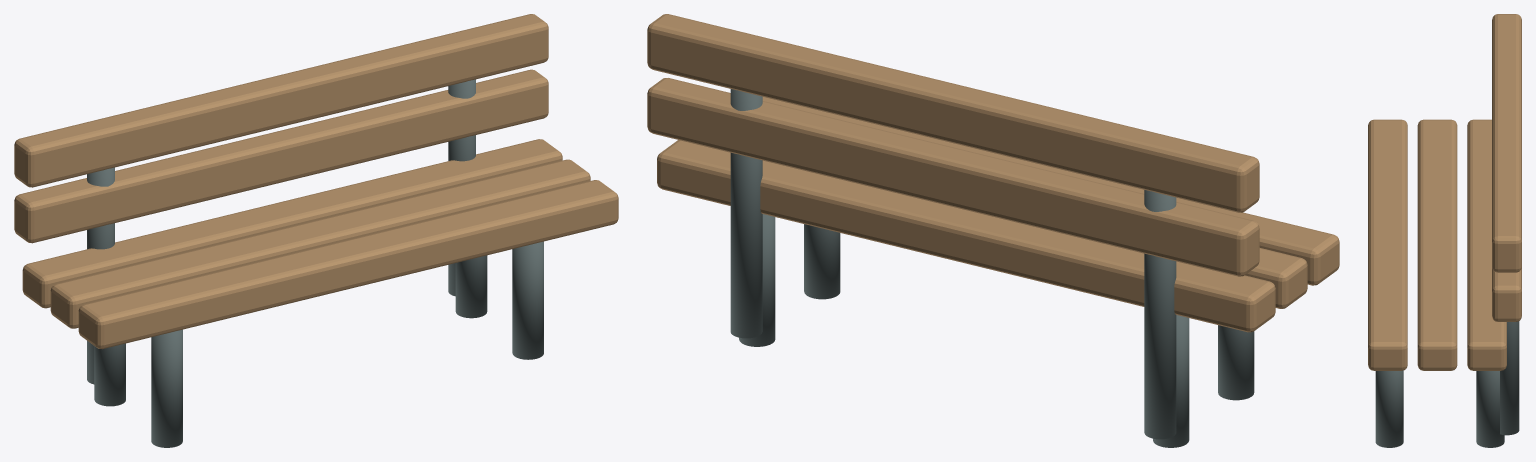
The model's file is bench.glb.
The picture shows the model from 3 angles, left to right: view 1: azimuth 30°, elevation 25°; view 2: azimuth 150°, elevation 25°; view 3: azimuth 270°, elevation 25°; orthographic projection. The views are drawn at different scales.
Visible parts, largest first — view 1: bench_textured_mesh; view 2: bench_textured_mesh; view 3: bench_textured_mesh.
Part boxes in pixels (<box>): bench_textured_mesh: <box>14,14,618,447</box>; bench_textured_mesh: <box>647,14,1339,447</box>; bench_textured_mesh: <box>1368,14,1521,447</box>.
Bounding box in the file's own units: 3.24 × 1.59 × 0.93.
1 material, 1 textured.
